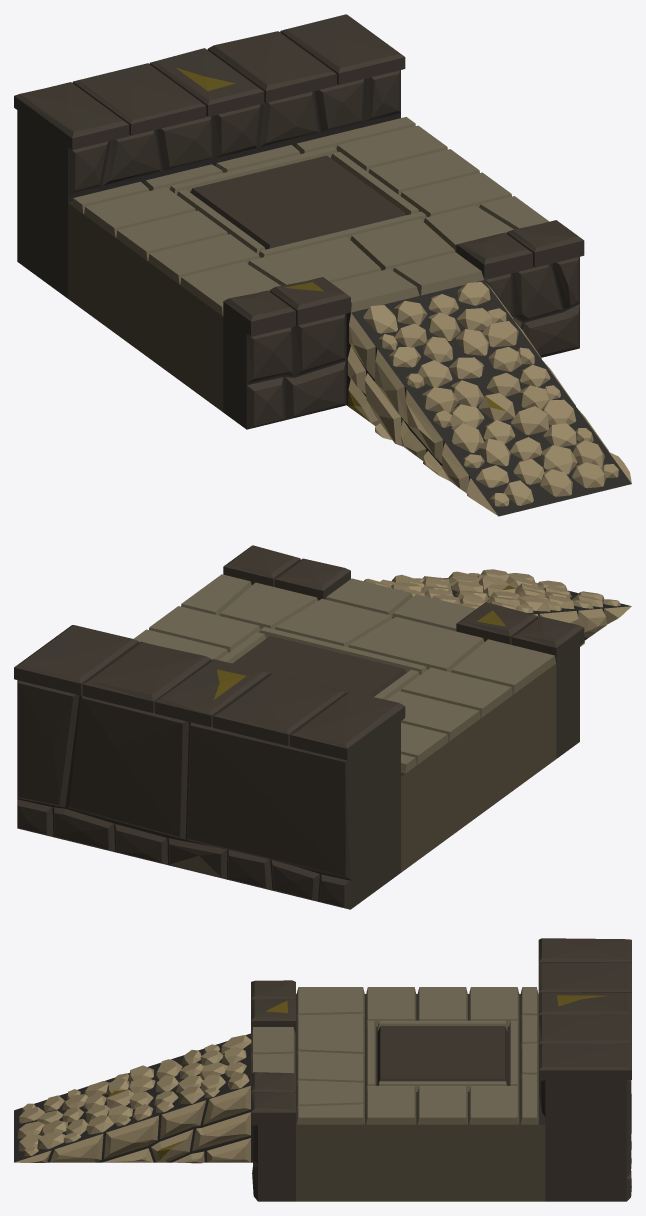
Rendered from ahu-platform-bay-ffe2b7.glb.
The picture shows the model from 3 angles, top to bottom: view 1: azimuth 30°, elevation 25°; view 2: azimuth 150°, elevation 25°; view 3: azimuth 270°, elevation 25°; orthographic projection. The views are drawn at different scales.
Parts seen in each view (by area): view 1: ahu-stonework; view 2: ahu-stonework; view 3: ahu-stonework.
Boxes of the visible parts, box(x1,y1,x2,y2) form: ahu-stonework: box(14, 14, 631, 516); ahu-stonework: box(14, 545, 631, 909); ahu-stonework: box(14, 938, 631, 1201).
Bounding box in the file's own units: 4 × 1.92 × 8.
